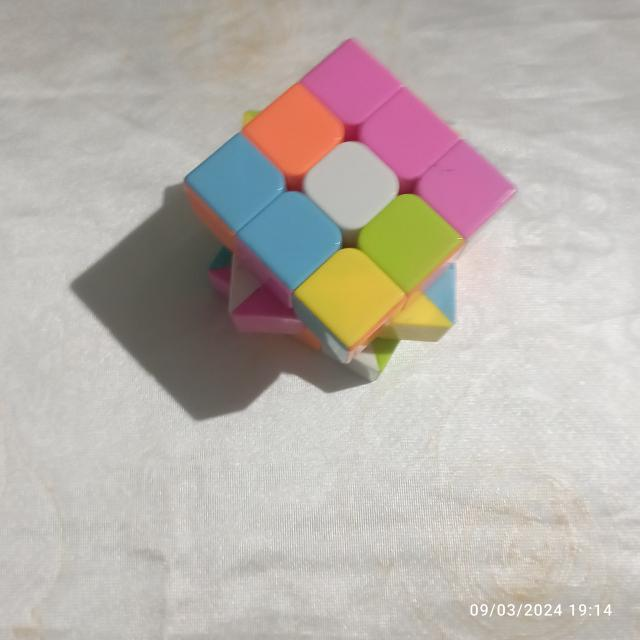Rub: (179, 31, 520, 386)
